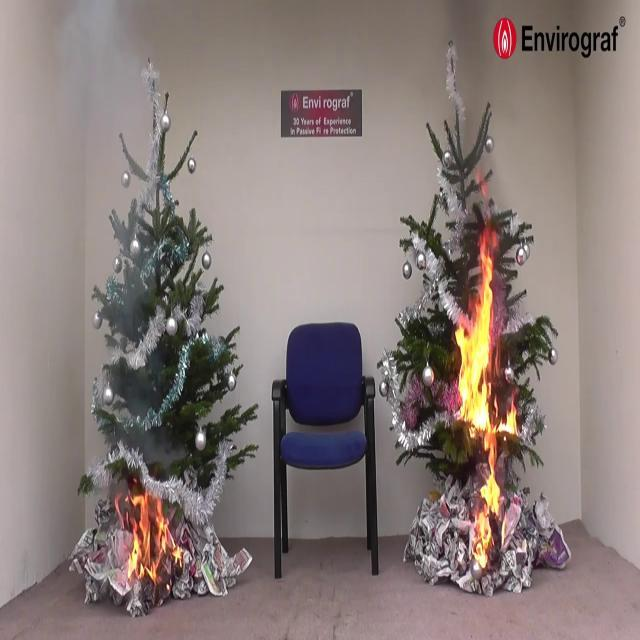Fire: (453, 230, 515, 558), (118, 478, 178, 593)
